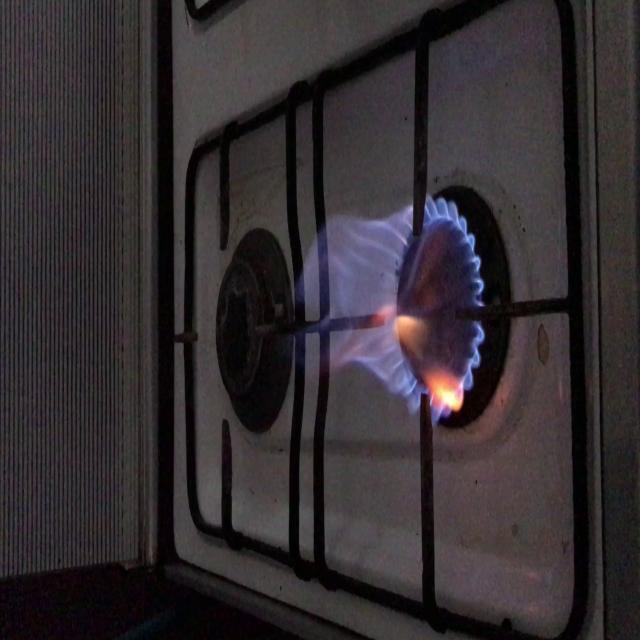Fire: (327, 199, 476, 413)
